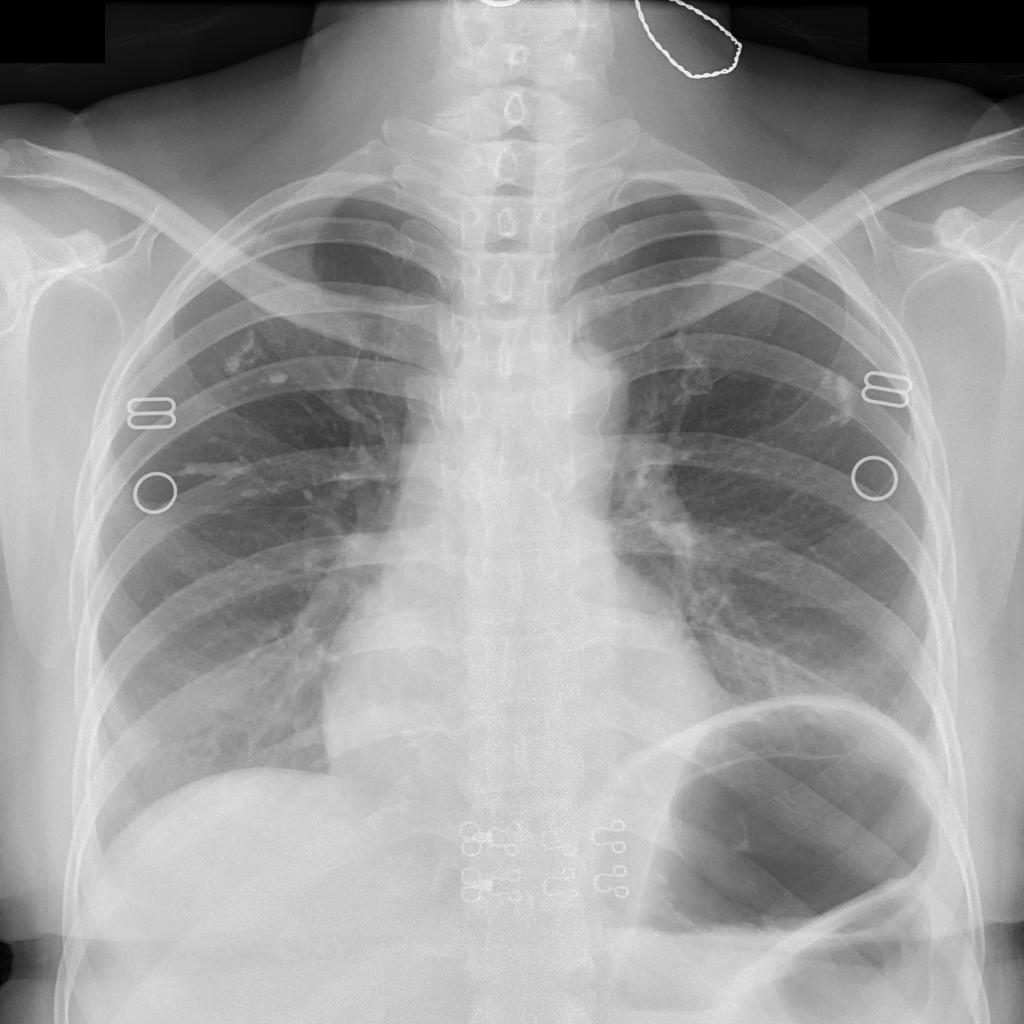Nodule: (179, 434, 272, 503), (221, 332, 294, 390), (806, 367, 856, 434)
